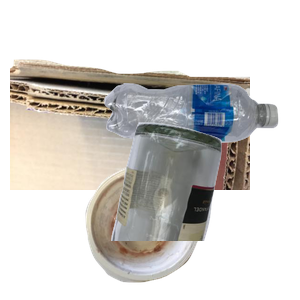cardboard: (10, 57, 250, 237)
glass: (109, 120, 300, 300)
plastic: (102, 81, 300, 216)
trash: (83, 163, 276, 300)
